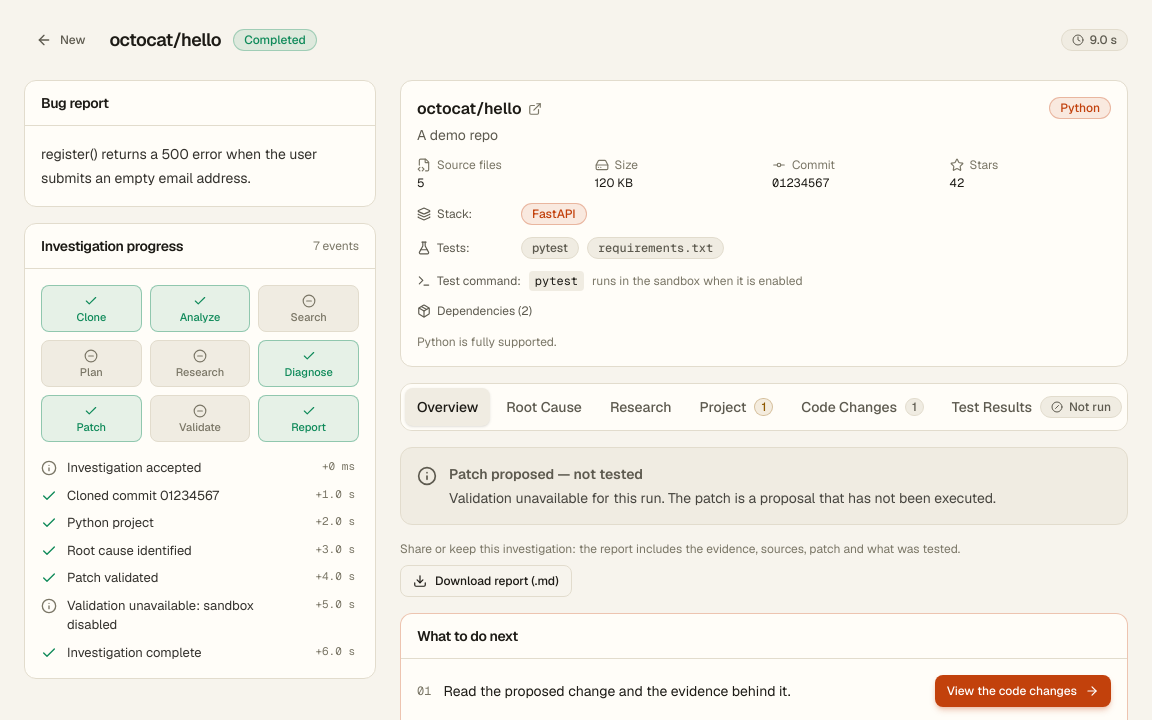
Test case: Leaving individual parts of a file out of the patch › forgets skipped parts of a file that is rejected
The image size is (1152, 720).
Click the tab "Code Changes 1" at (863, 407), box [789, 388, 936, 426]
(page scrolled)
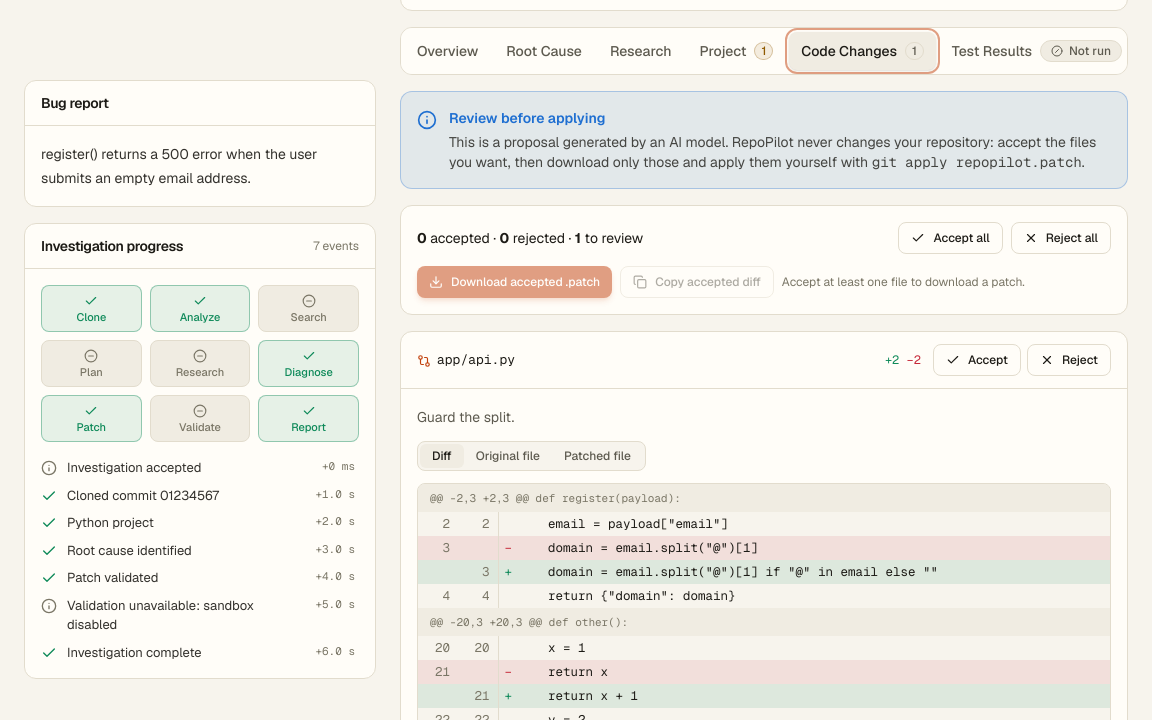
Click the button "Accept" at (977, 360), box [933, 344, 1021, 376]
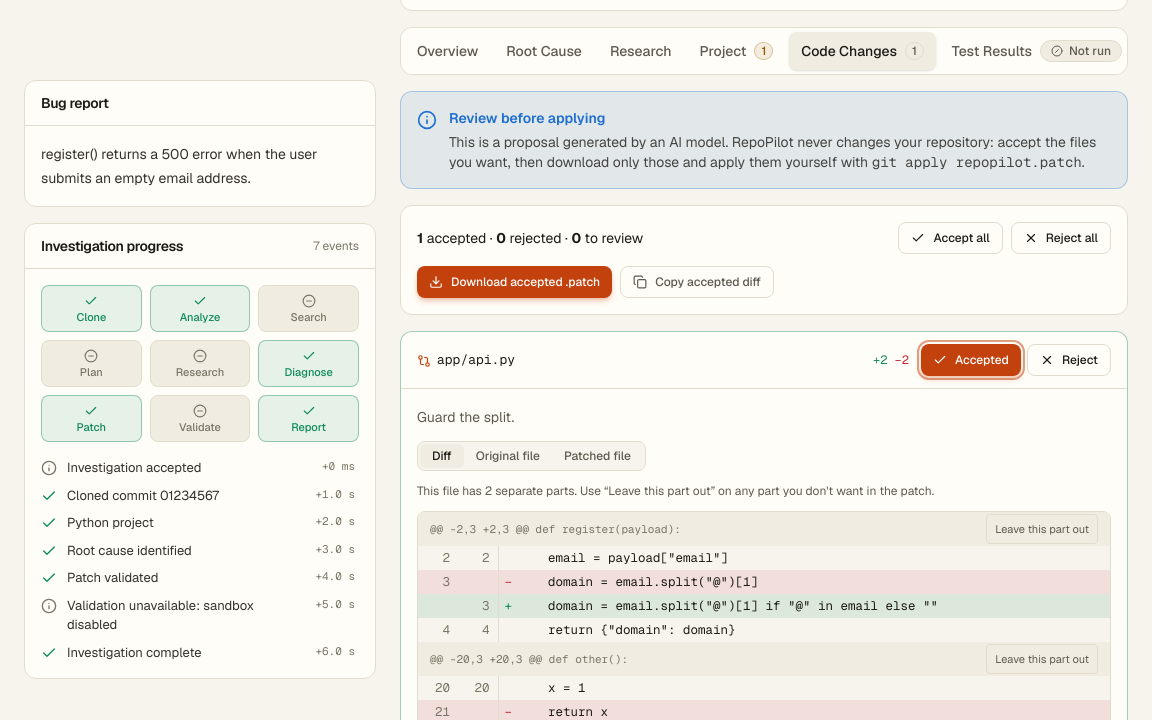
Click the button with aria-label "leave out part 2 of 2" at (1042, 659), box [986, 644, 1098, 674]
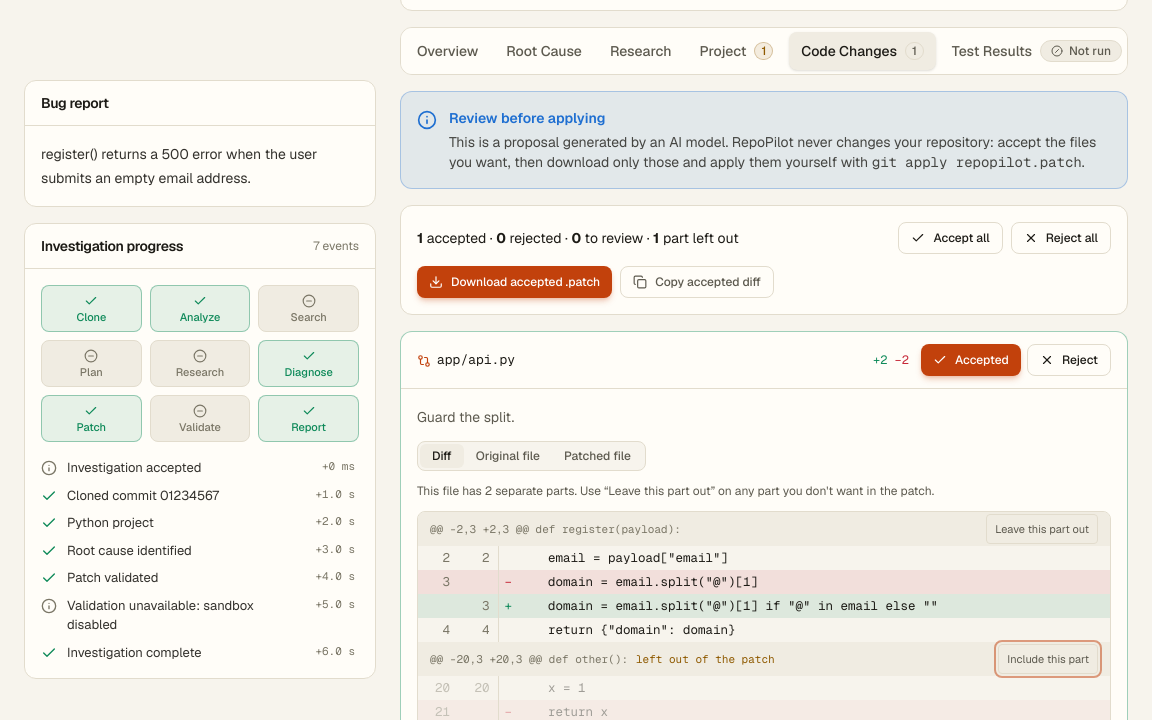
Click the button "Reject" at (1069, 360), box [1027, 344, 1111, 376]
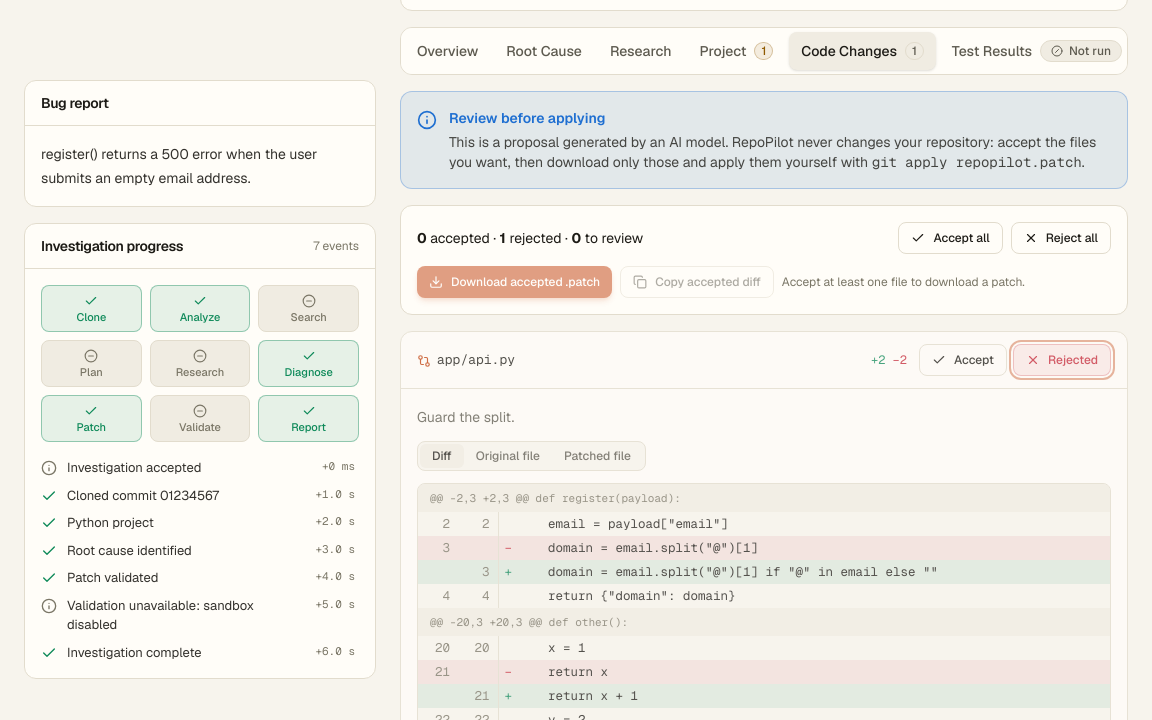
Result: the text "to review" no longer shows "left out"
